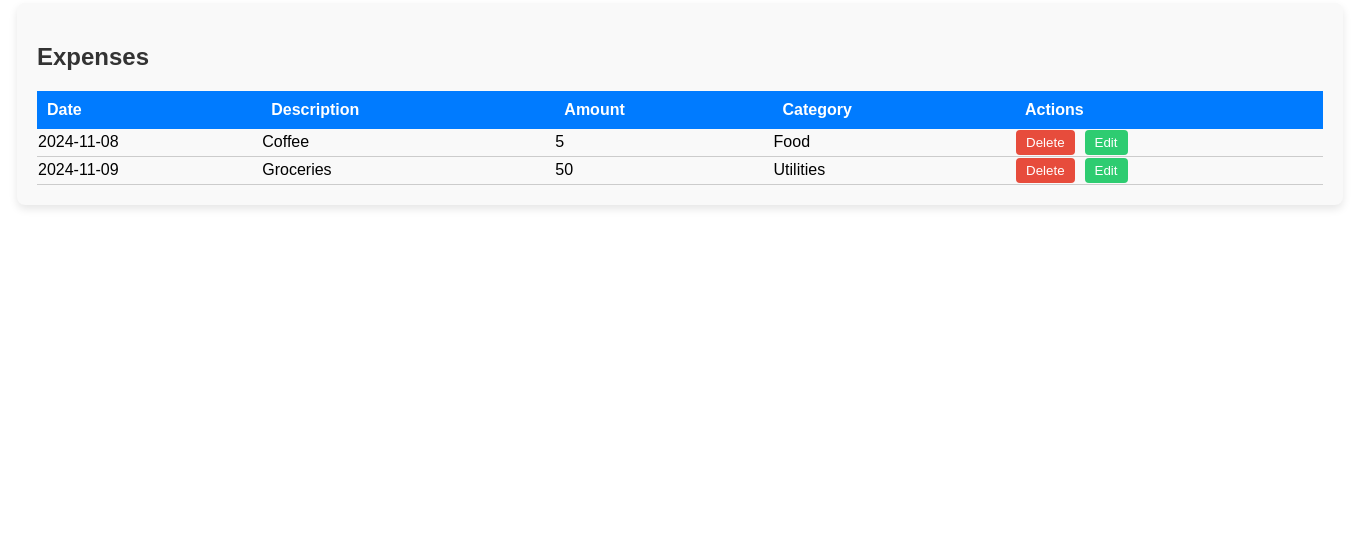
ExpenseList Component › cancels editing without updating the expense
Click the edit button for the first expense
Click the button "Edit" in the row of "2024-11-08".
click(1106, 142)  # box [1084,130,1128,155]
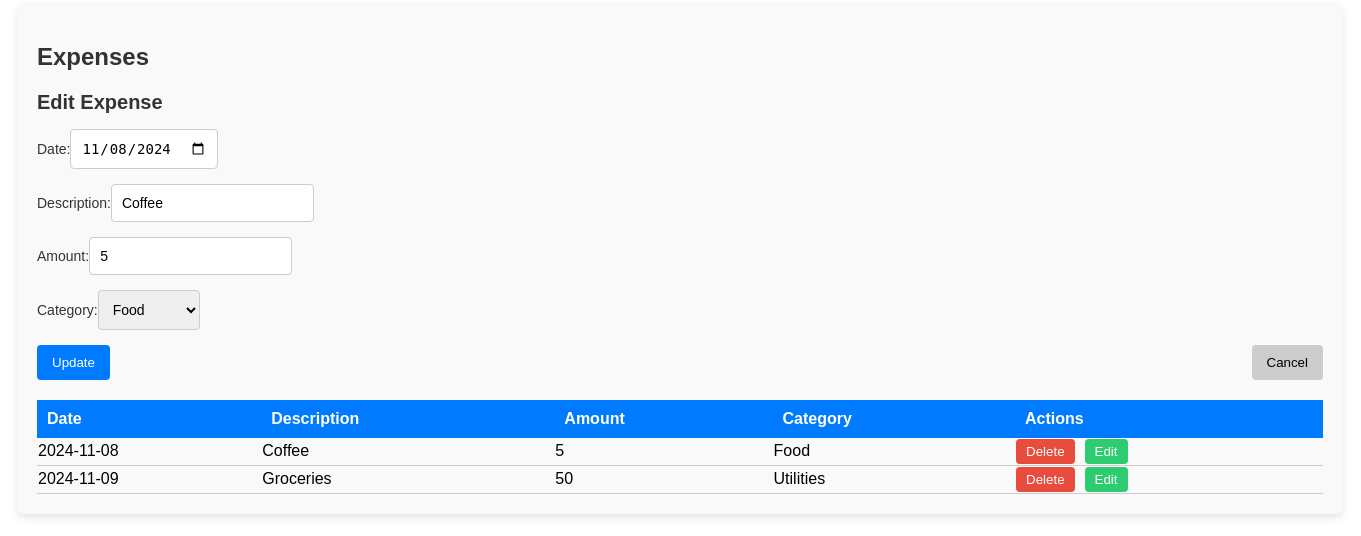
Click the cancel button
Click the button "Cancel".
click(1287, 362)  # box [1252,345,1323,380]
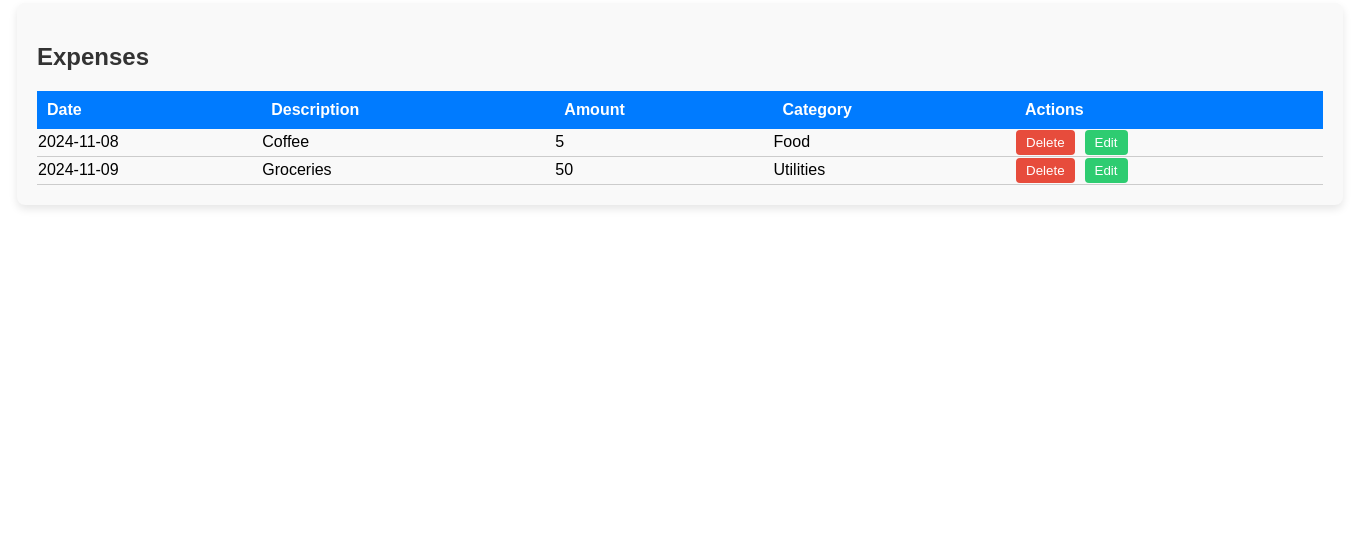
Now the button "Update" is gone
